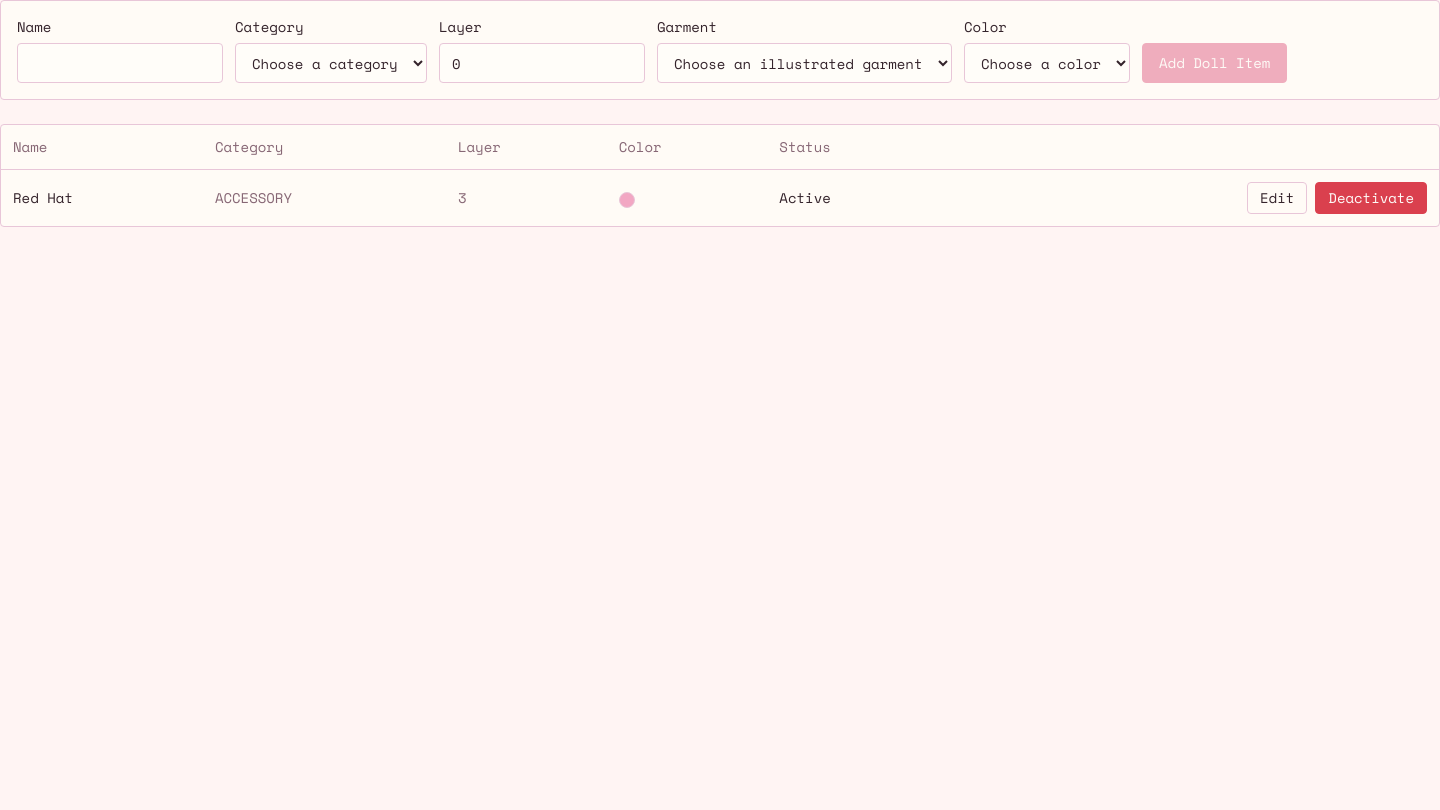
Test: DollItemManager › edits a doll item via the modal
Expected: the text "Red Hat" is shown, 1,170 -> 203,226
Click the button "Edit" at (1277, 198), box 1247,182 -> 1307,214
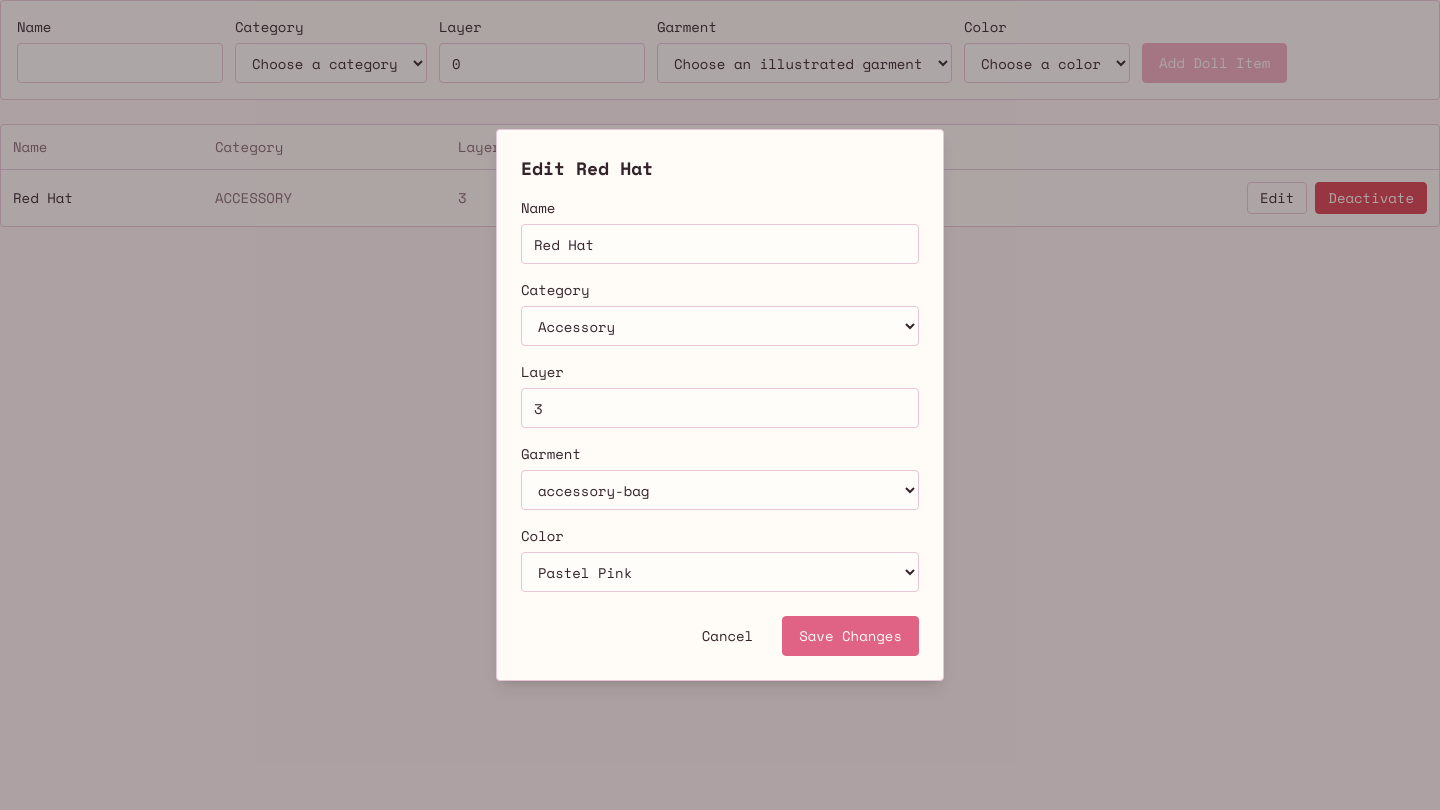
Replace the text in the number field labelled "Layer" with "5" at (720, 408), box 521,388 -> 919,428
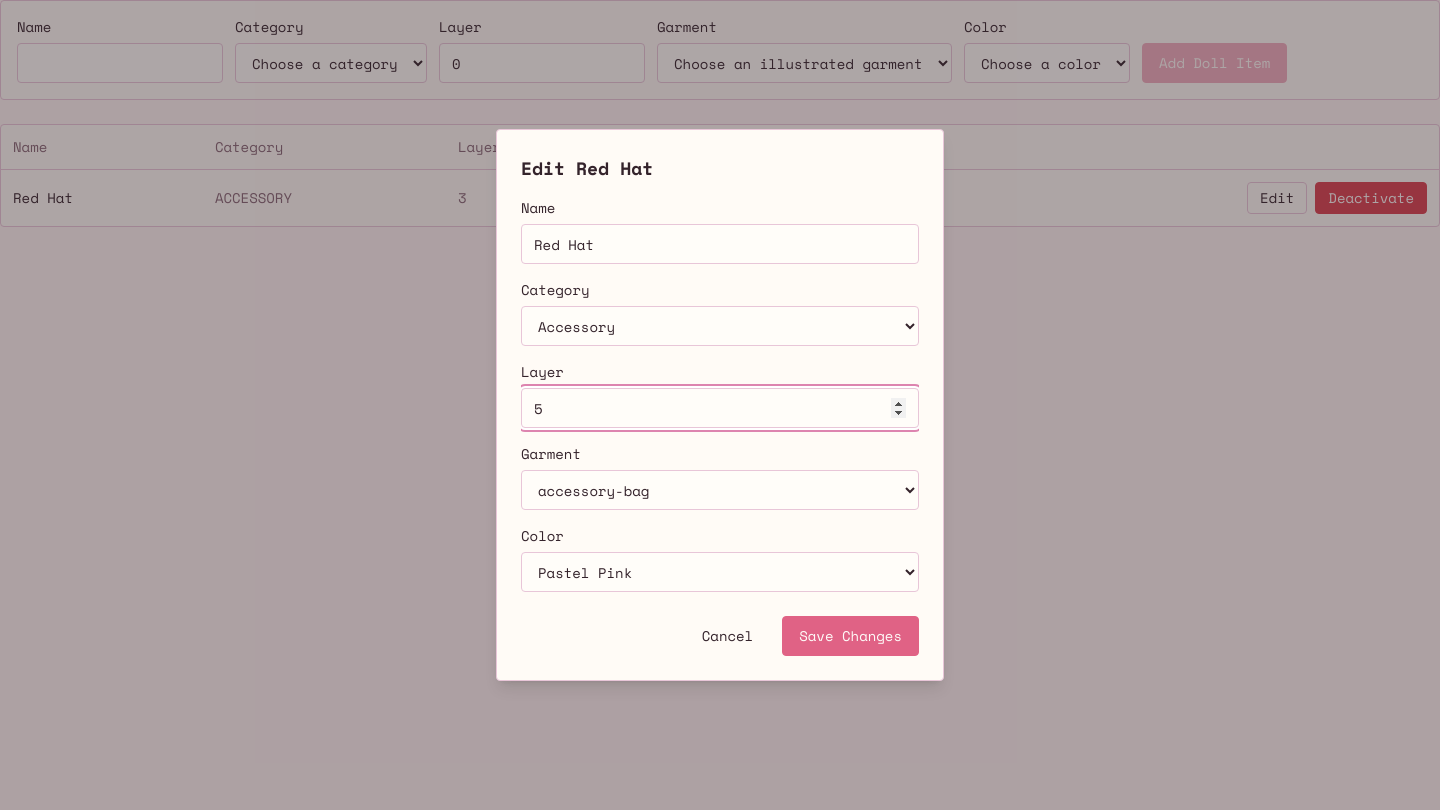
Click the button "Save Changes" at (851, 636), box 782,616 -> 919,656
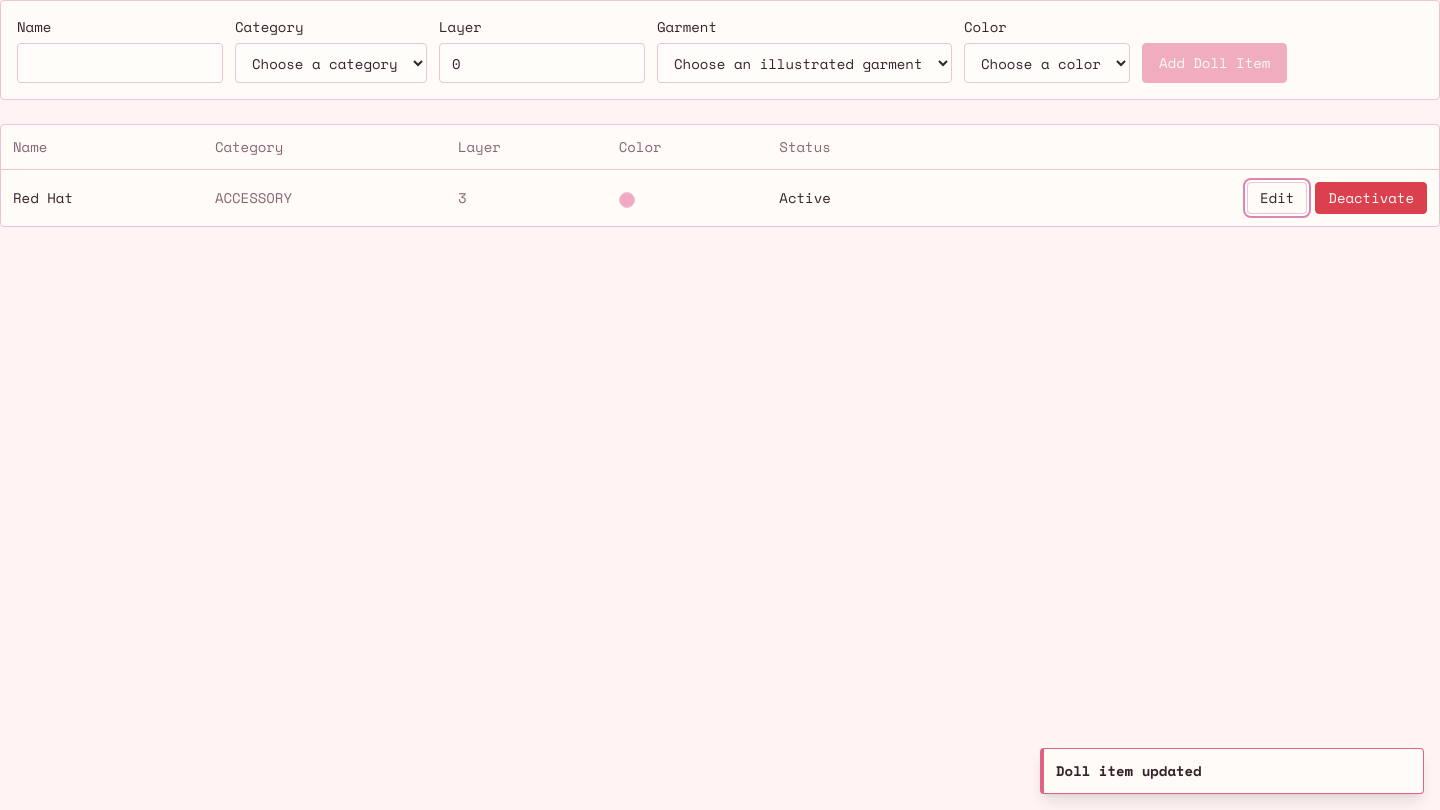
Expected: the text "Doll item updated" is shown, 1056,760 -> 1202,781
